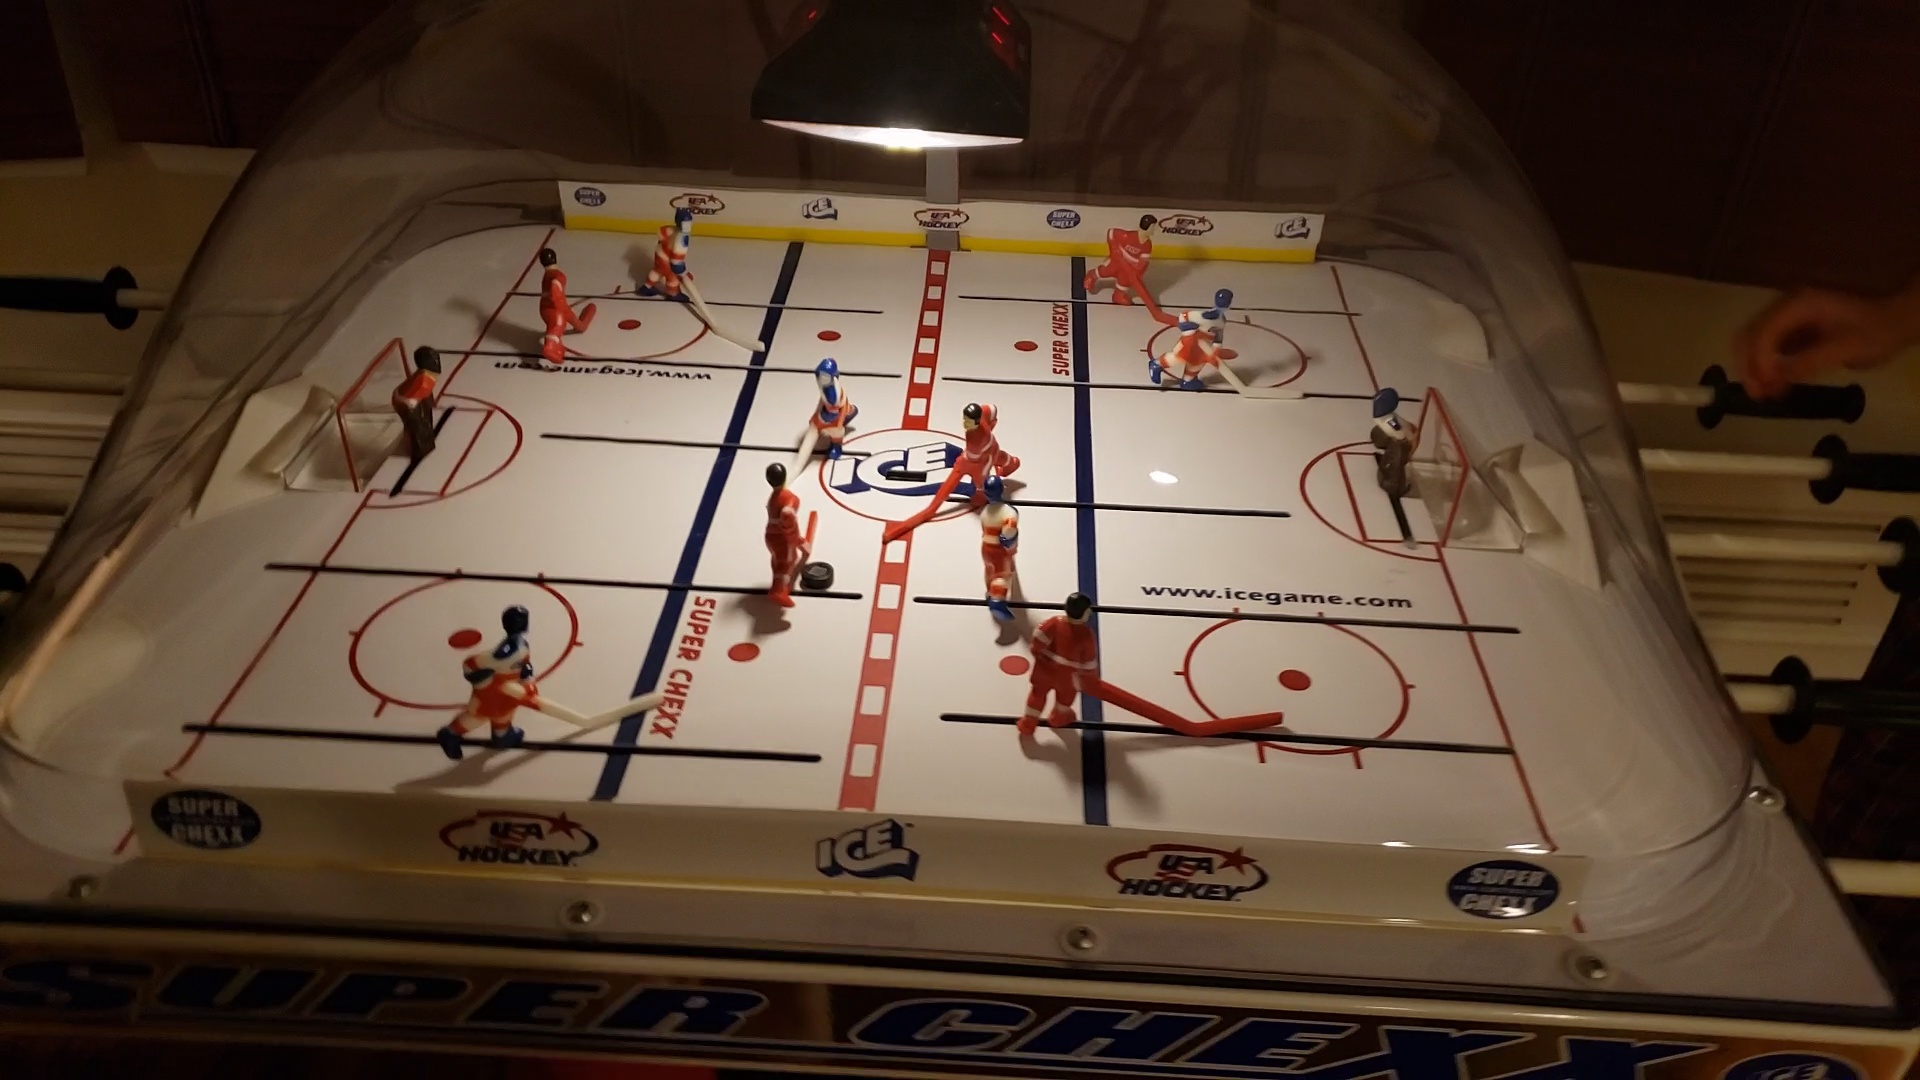puck: (796, 556, 839, 585)
